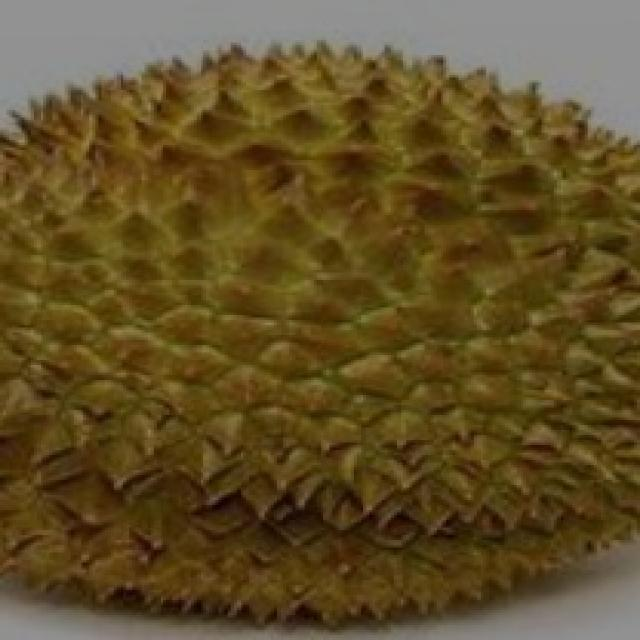fruit: (0, 292, 382, 640), (295, 302, 637, 640)
